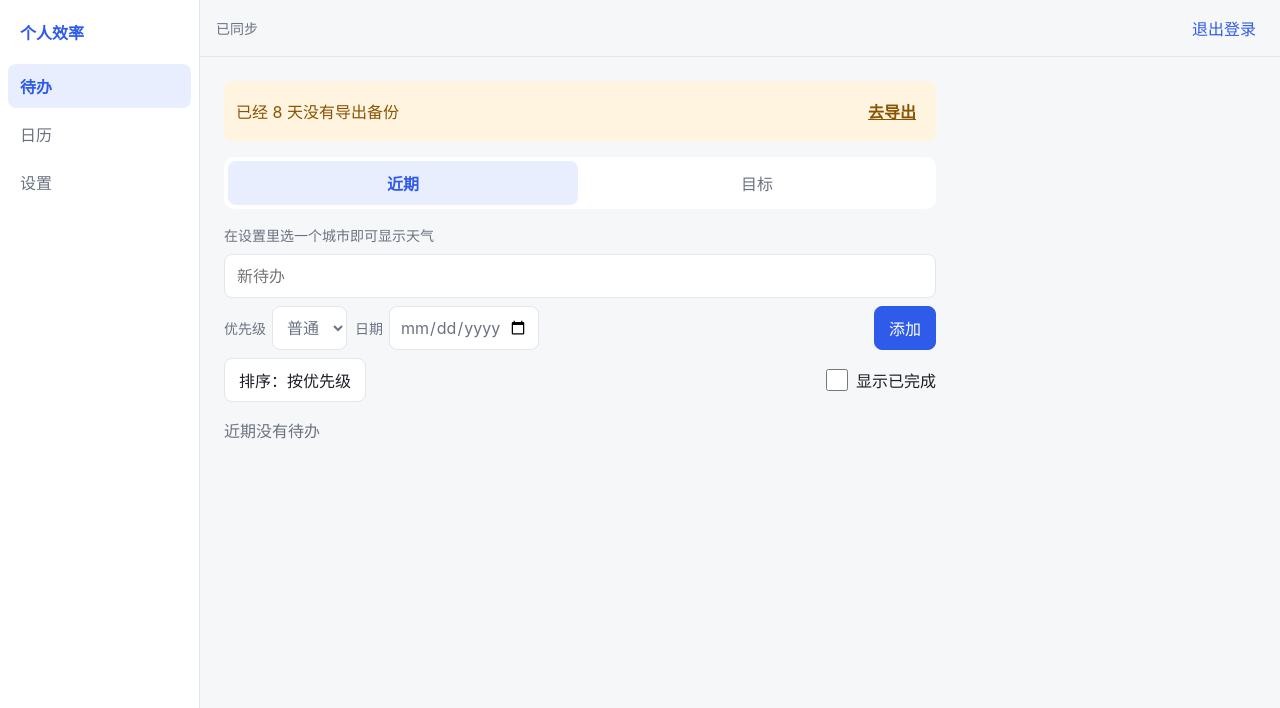
Test: Shell and failed ops (brief) › the reminder shows after 7 days without export and disappears after exporting
Expected: the text "已经 8 天没有导出备份" is shown, x1=236 y1=99 x2=399 y2=123
Click the button "设置" at (100, 182), box x1=8 y1=160 x2=191 y2=204
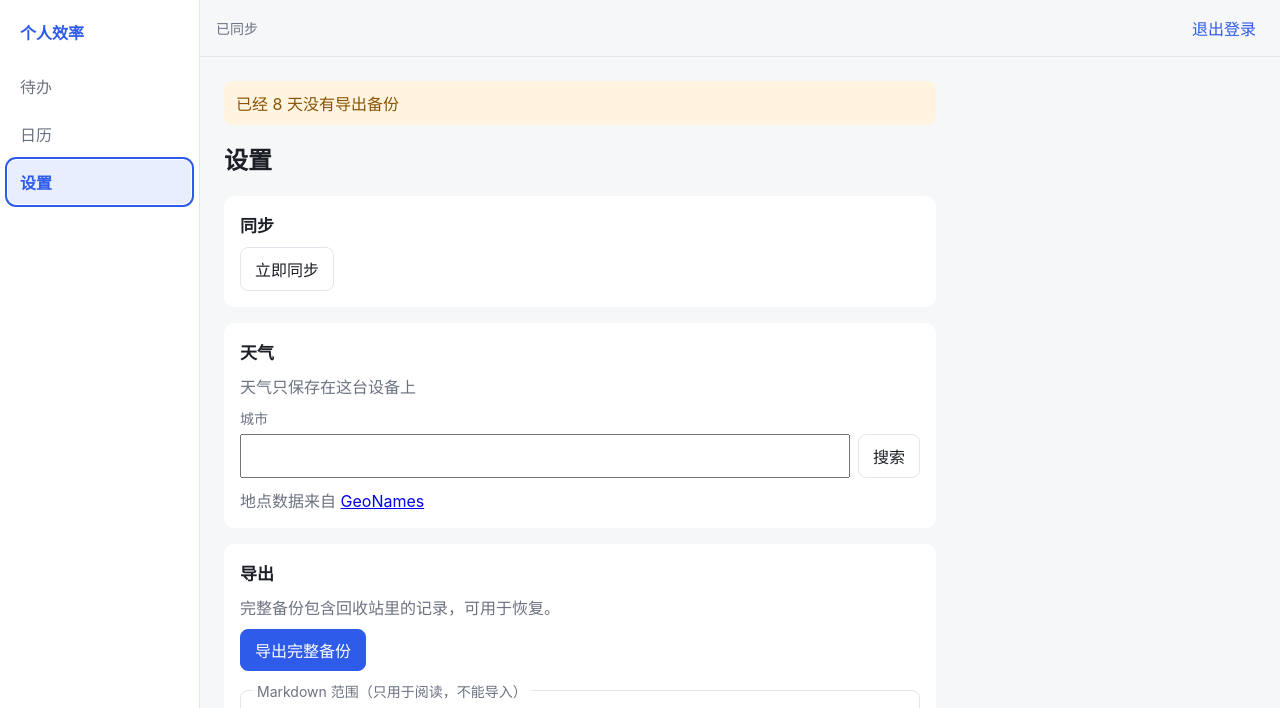
Click the button "导出完整备份" at (303, 650), box x1=240 y1=629 x2=366 y2=671
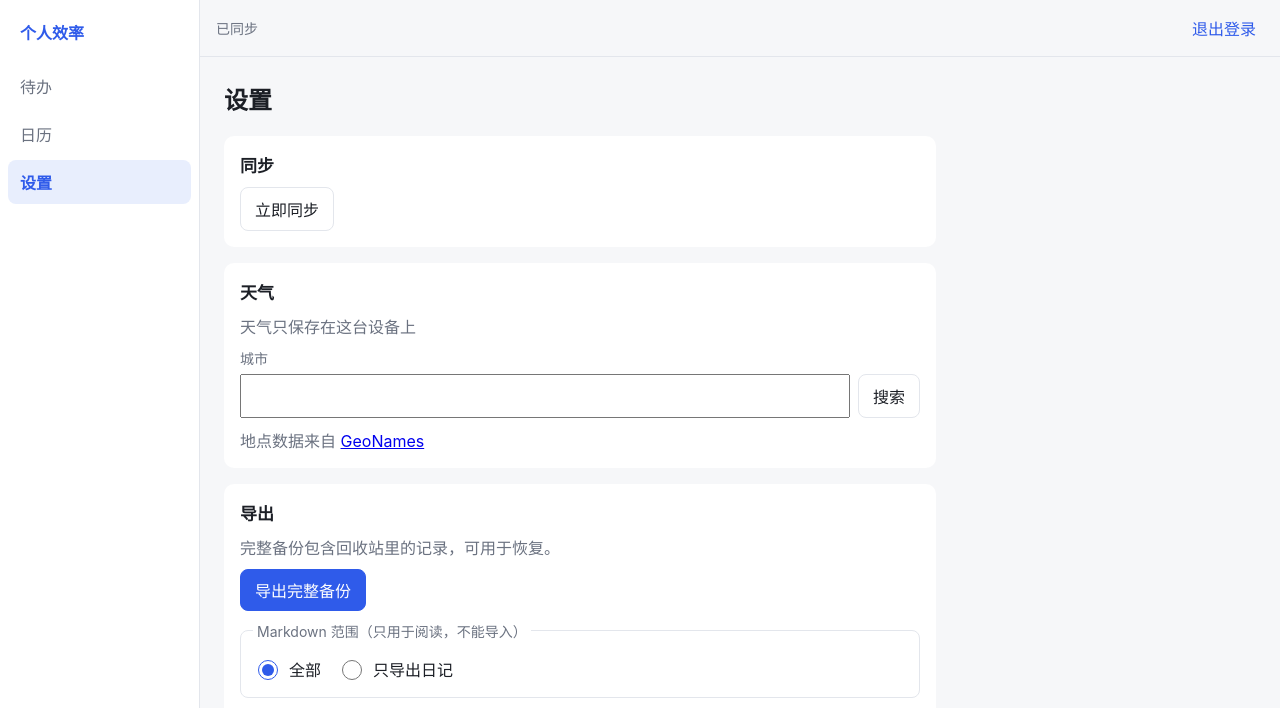
Now the text "天没有导出备份" is gone
